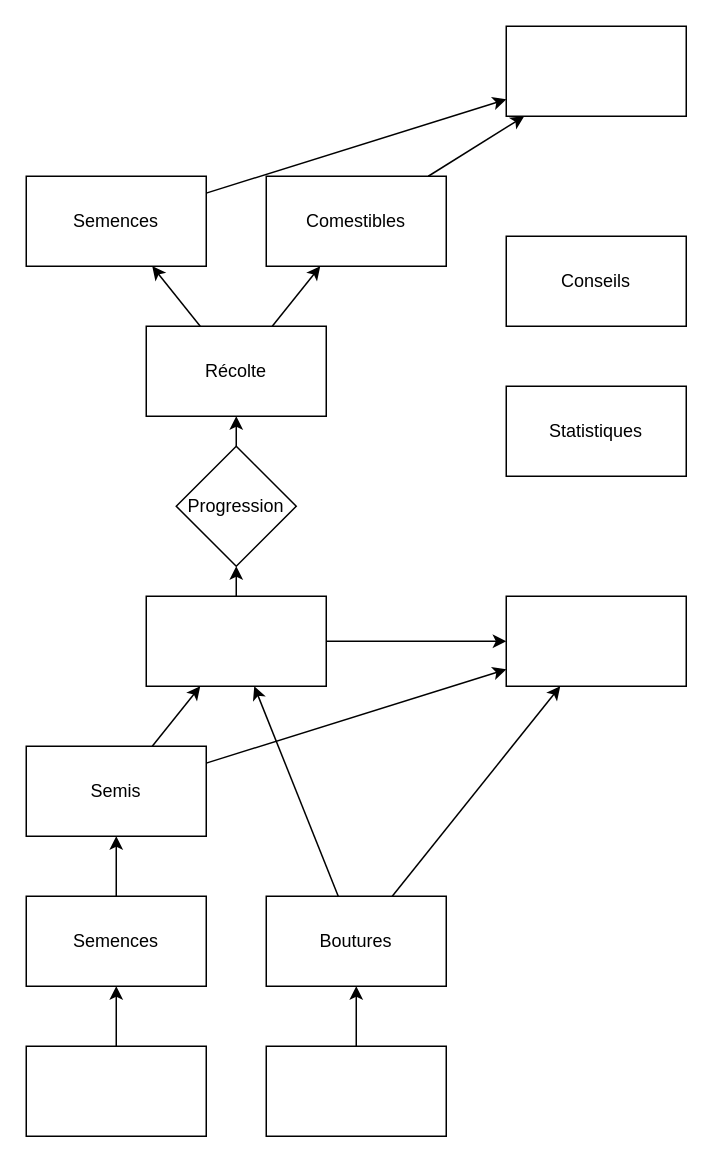
This 713x1163 diagram has some shape labels left out. The shapes that lost their labels are listed below. From the top down, each one's centre as x and y in pixels, then its label:
At [595,70]: "Conservation".
At [235,640]: "Plantation".
At [595,640]: "Emplacements".
At [115,1090]: "Semenciers".
At [355,1090]: "Centres-jardins".
